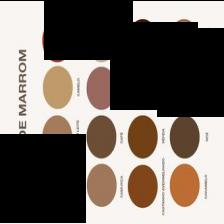brown: (128, 114, 158, 158), (128, 164, 158, 207), (171, 115, 200, 158), (87, 115, 116, 157)
